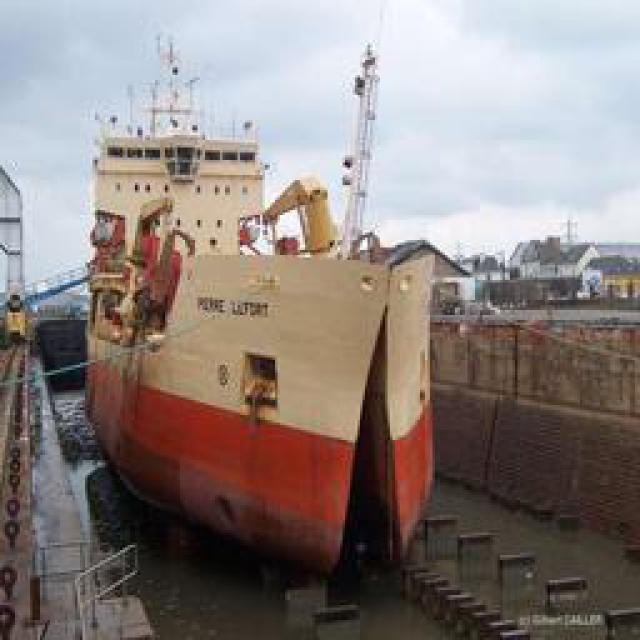Ship: (85, 175, 450, 580)
